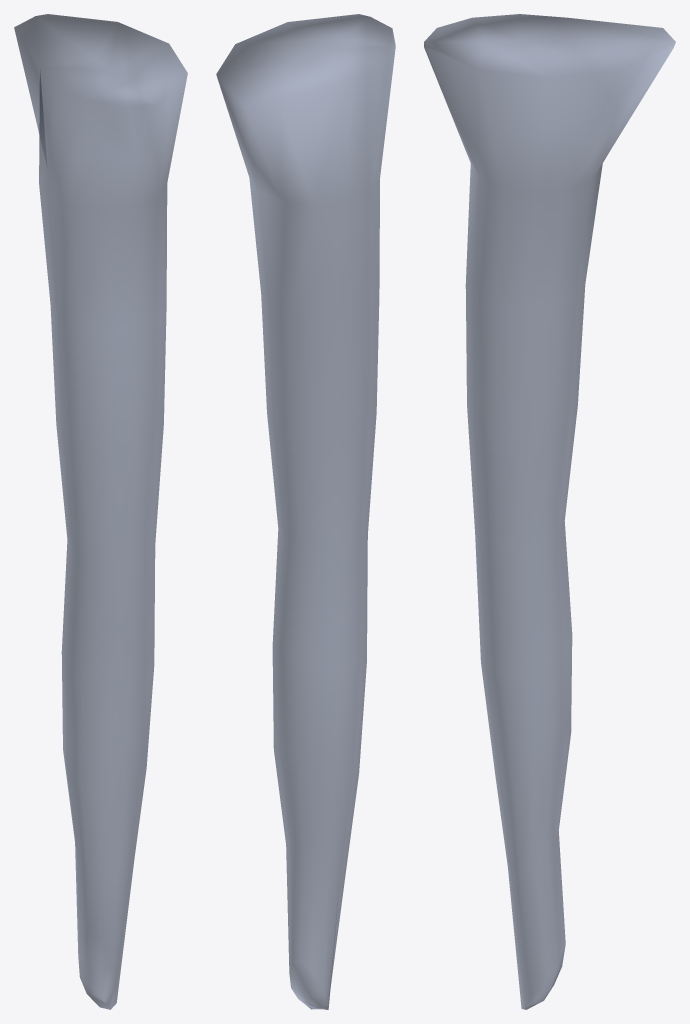
The model's file is VeryMeltyIcicle.fbx.
3 renders of one model, left to right at view 1: azimuth 30°, elevation 25°; view 2: azimuth 150°, elevation 25°; view 3: azimuth 270°, elevation 25°, orthographic. The views are drawn at different scales.
Parts seen in each view (by area): view 1: VeryMeltyIcicle; view 2: VeryMeltyIcicle; view 3: VeryMeltyIcicle.
Boxes of the visible parts, x1,y1,x2,y2 form: VeryMeltyIcicle: (14, 14, 187, 1009); VeryMeltyIcicle: (216, 14, 395, 1009); VeryMeltyIcicle: (424, 14, 675, 1009).
Bounding box in the file's own units: 2.43 × 17.11 × 4.04.
